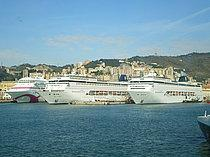Ship: (122, 68, 210, 108), (45, 69, 125, 110), (14, 72, 56, 106)
